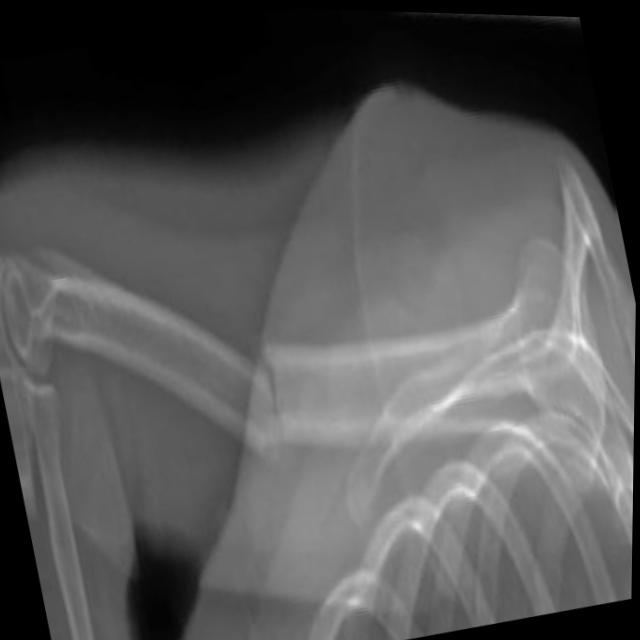fracture: (233, 300, 309, 487)
